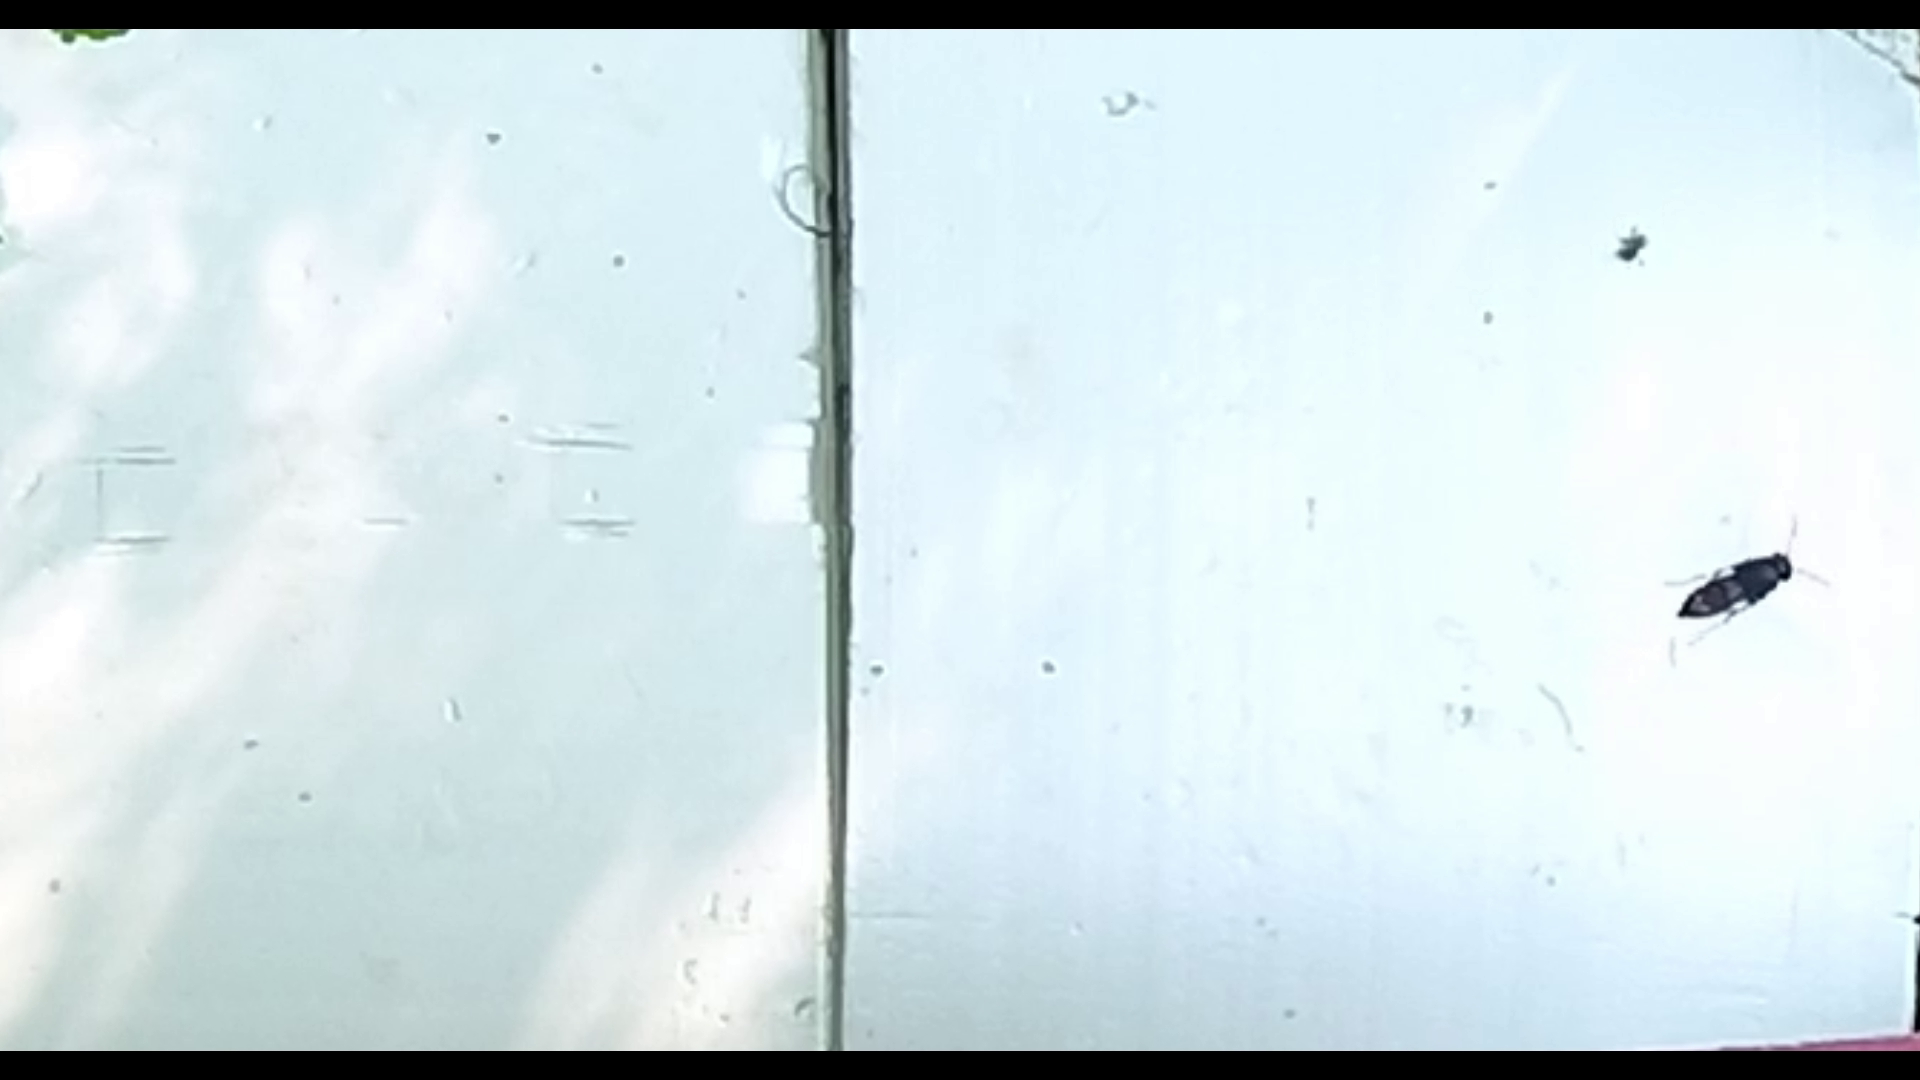Asian_hornets: (1640, 510, 1833, 646)
